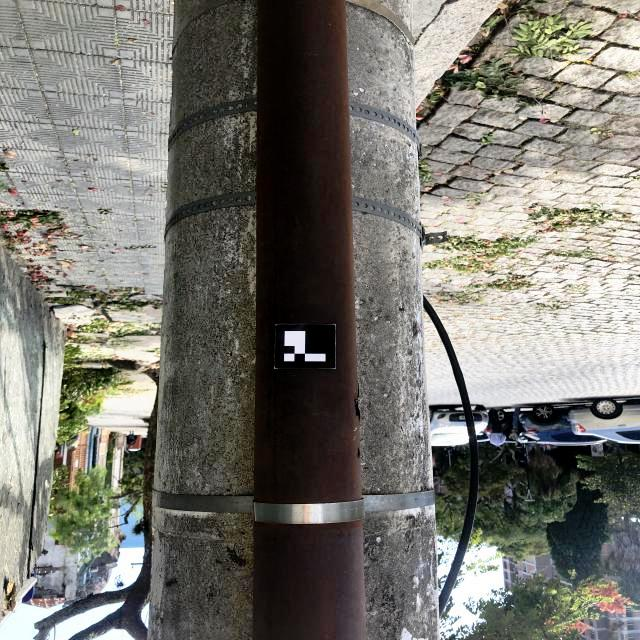Corrosion: (254, 0, 360, 504), (253, 521, 366, 640)
